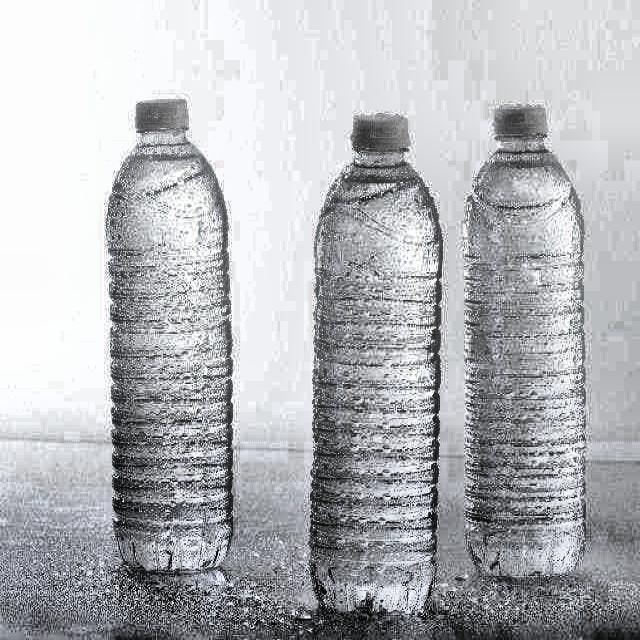Bottles: (448, 69, 605, 594), (302, 89, 446, 626), (100, 84, 250, 576)
